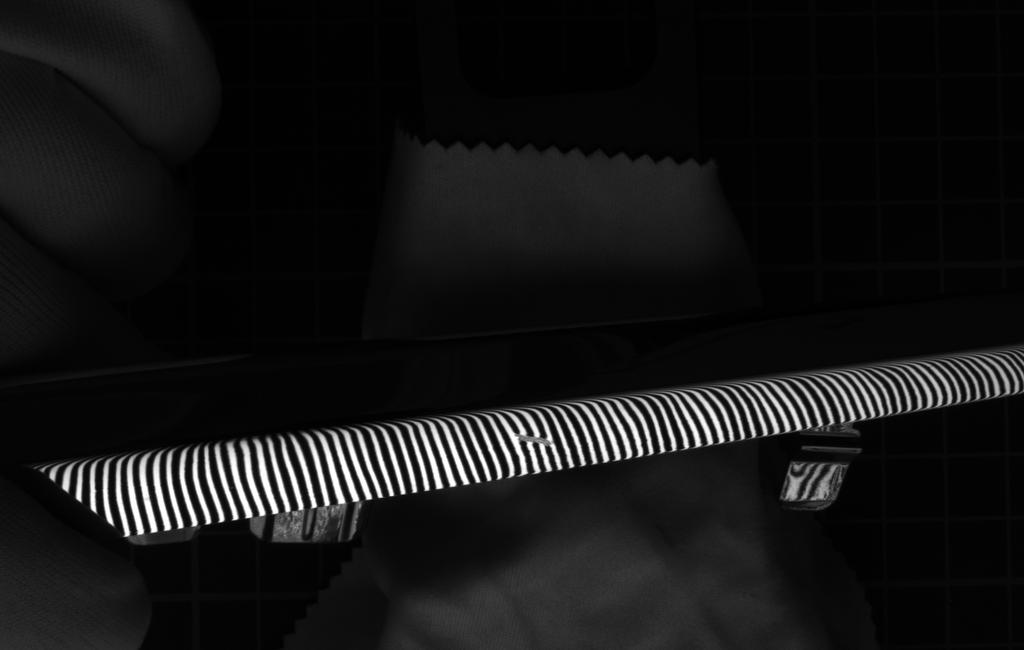Scratch: (509, 425, 565, 456)
